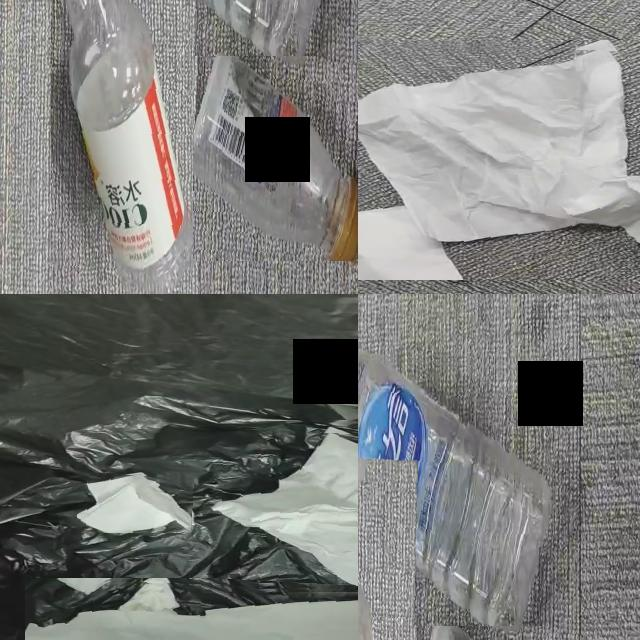bottle: (358, 356, 555, 626), (66, 0, 193, 294), (193, 48, 358, 261)
paper: (358, 49, 640, 241), (213, 432, 358, 583), (25, 582, 358, 640), (77, 475, 192, 533)
